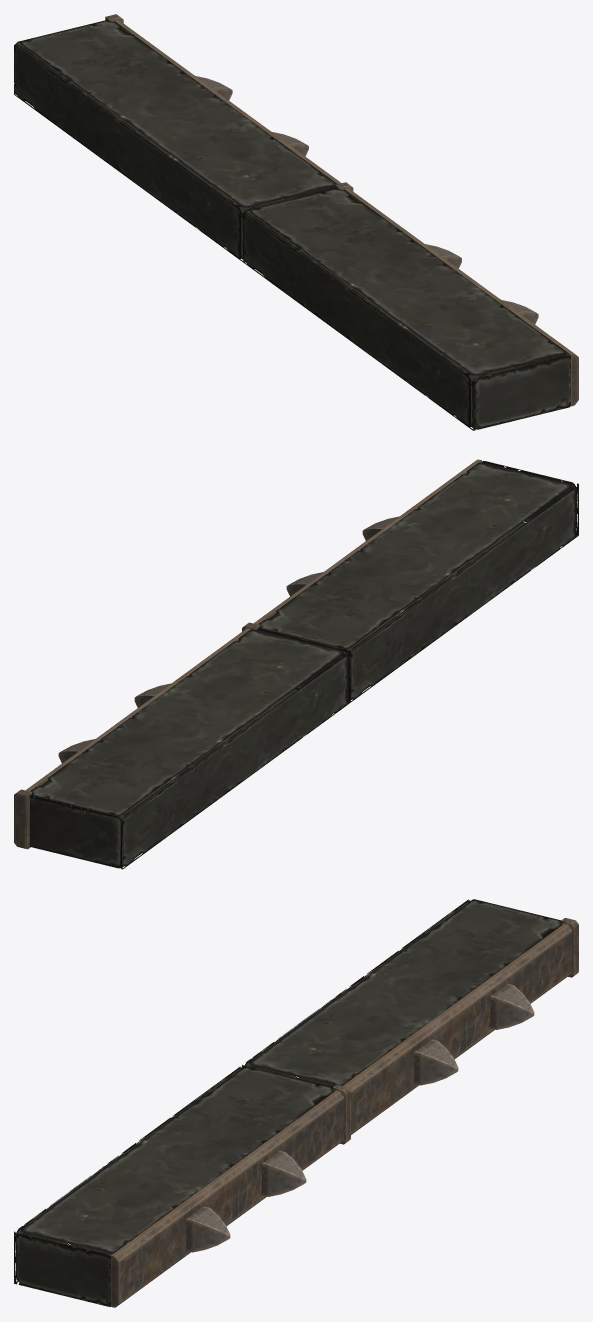
3 views of the same model, one above another, from view 1: azimuth 30°, elevation 25°; view 2: azimuth 150°, elevation 25°; view 3: azimuth 330°, elevation 25° (orthographic).
Parts seen in each view (by area): view 1: SM_Dowdun_Wall_Trim_8x1_02_LOD0; view 2: SM_Dowdun_Wall_Trim_8x1_02_LOD0; view 3: SM_Dowdun_Wall_Trim_8x1_02_LOD0.
Boxes of the visible parts, bbox=[...] form: SM_Dowdun_Wall_Trim_8x1_02_LOD0: bbox=[14, 14, 578, 430]; SM_Dowdun_Wall_Trim_8x1_02_LOD0: bbox=[14, 459, 578, 869]; SM_Dowdun_Wall_Trim_8x1_02_LOD0: bbox=[14, 899, 578, 1307].
Bounding box in the file's own units: 1.41 × 0.527 × 8.05.
Materials: 2 (2 with a texture image).
